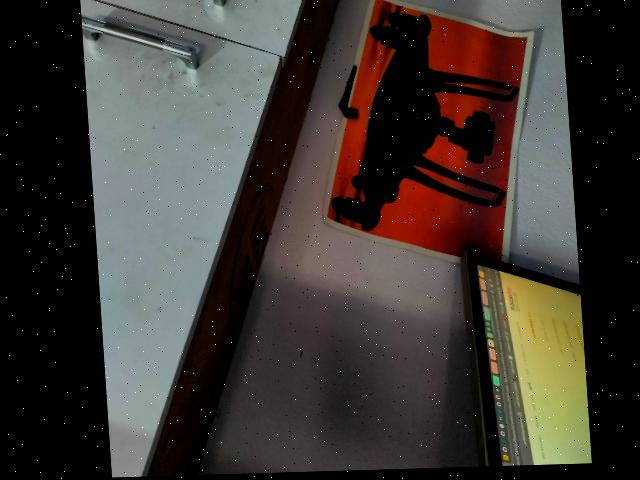drone: (312, 0, 513, 228)
